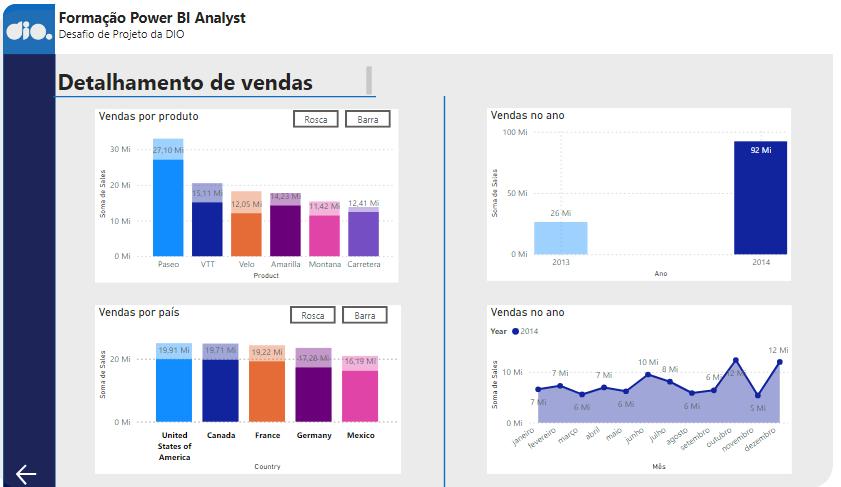

The page's visual inventory and layout, read from the dashboard file:
{"tool":"powerbi","page":{"name":"Página 3","canvas":[1280,720],"ordinal":2},"visuals":[{"type":"shape","box":[10.1,13.4,77.2,706.3],"z":0},{"type":"shape","box":[83.9,127.8,473,37.1],"z":0,"group":"g1"},{"type":"shape","box":[10,11.8,77.3,73.6],"z":1000},{"type":"textbox","box":[85.3,97.6,470.2,52.2],"z":1000,"group":"g1"},{"type":"image","title":"logo_dio","box":[10.1,18.5,77.2,62.1],"z":2000},{"type":"shape","box":[0,20,1225,700],"z":3000},{"type":"shape","title":"Fundo do Título","box":[86.7,11.7,1193.3,73.3],"z":4000},{"type":"textbox","box":[86.7,11.7,325,66.7],"z":5000},{"type":"actionButton","box":[25,680,61.7,40],"z":6000},{"type":"group","id":"g1","title":"Sales report","box":[83.9,97.6,473,67.4],"z":7000},{"type":"shape","box":[506.7,146.7,300,573.3],"z":8000},{"type":"lineChart","title":"Vendas no ano","fields":{"Category":["financials.Date.Variation.Hierarquia de datas.Ano","financials.Date.Variation.Hierarquia de datas.Trimestre","financials.Date.Variation.Hierarquia de datas.Mês","financials.Date.Variation.Hierarquia de datas.Dia"],"Y":["Sum(financials. Sales)"],"Series":["financials.Year"]},"box":[718.5,452.2,446.3,247.3],"z":11000},{"type":"columnChart","title":"Vendas no ano","fields":{"Category":["financials.Date.Variation.Hierarquia de datas.Ano","financials.Date.Variation.Hierarquia de datas.Trimestre","financials.Date.Variation.Hierarquia de datas.Mês","financials.Date.Variation.Hierarquia de datas.Dia"],"Y":["Sum(financials. Sales)"]},"box":[718.5,163.9,444.9,253.2],"z":12000},{"type":"group","id":"g2","title":"Grupo vendas por país","box":[145,451.7,448.3,248.3],"z":12500},{"type":"group","id":"g3","title":"Grupo vendas por produto","box":[145.6,165.6,445.9,254.4],"z":13000},{"type":"columnChart","title":"Vendas por produto","fields":{"Y":["Sum(financials. Sales)"],"Category":["financials.Product"]},"box":[145.6,165.6,444.4,254.4],"z":13250,"group":"g3"},{"type":"actionButton","title":"Botão rosca produtos","box":[435,167,67,26],"z":13500,"group":"g3"},{"type":"actionButton","title":"Botão barra produto","box":[512,167,67,26],"z":13750,"group":"g3"},{"type":"columnChart","title":"Vendas por país","fields":{"Category":["financials.Country"],"Y":["Sum(financials. Sales)"]},"box":[145,451.7,448.3,246.7],"z":14500,"group":"g2"},{"type":"actionButton","title":"Botão rosca país","box":[430,453,67,26],"z":15000,"group":"g2"},{"type":"actionButton","title":"Botão barra país","box":[507,453,67,26],"z":16000,"group":"g2"}]}

Visuals, with their boxes on the page's 1280x720 design canvas (x1, y1, x2, y2). These are canvas units, not pixel positions in the 841x487 screenshot, which may show the page scaled, cropped or inside an application window:
shape: {"x1": 10, "y1": 13, "x2": 87, "y2": 720}
shape: {"x1": 84, "y1": 128, "x2": 557, "y2": 165}
shape: {"x1": 10, "y1": 12, "x2": 87, "y2": 85}
textbox: {"x1": 85, "y1": 98, "x2": 556, "y2": 150}
"logo_dio" image: {"x1": 10, "y1": 18, "x2": 87, "y2": 81}
shape: {"x1": 0, "y1": 20, "x2": 1225, "y2": 720}
"Fundo do Título" shape: {"x1": 87, "y1": 12, "x2": 1280, "y2": 85}
textbox: {"x1": 87, "y1": 12, "x2": 412, "y2": 78}
actionButton: {"x1": 25, "y1": 680, "x2": 87, "y2": 720}
"Sales report" group: {"x1": 84, "y1": 98, "x2": 557, "y2": 165}
shape: {"x1": 507, "y1": 147, "x2": 807, "y2": 720}
"Vendas no ano" lineChart: {"x1": 718, "y1": 452, "x2": 1165, "y2": 700}
"Vendas no ano" columnChart: {"x1": 718, "y1": 164, "x2": 1163, "y2": 417}
"Grupo vendas por país" group: {"x1": 145, "y1": 452, "x2": 593, "y2": 700}
"Grupo vendas por produto" group: {"x1": 146, "y1": 166, "x2": 592, "y2": 420}
"Vendas por produto" columnChart: {"x1": 146, "y1": 166, "x2": 590, "y2": 420}
"Botão rosca produtos" actionButton: {"x1": 435, "y1": 167, "x2": 502, "y2": 193}
"Botão barra produto" actionButton: {"x1": 512, "y1": 167, "x2": 579, "y2": 193}
"Vendas por país" columnChart: {"x1": 145, "y1": 452, "x2": 593, "y2": 698}
"Botão rosca país" actionButton: {"x1": 430, "y1": 453, "x2": 497, "y2": 479}
"Botão barra país" actionButton: {"x1": 507, "y1": 453, "x2": 574, "y2": 479}
